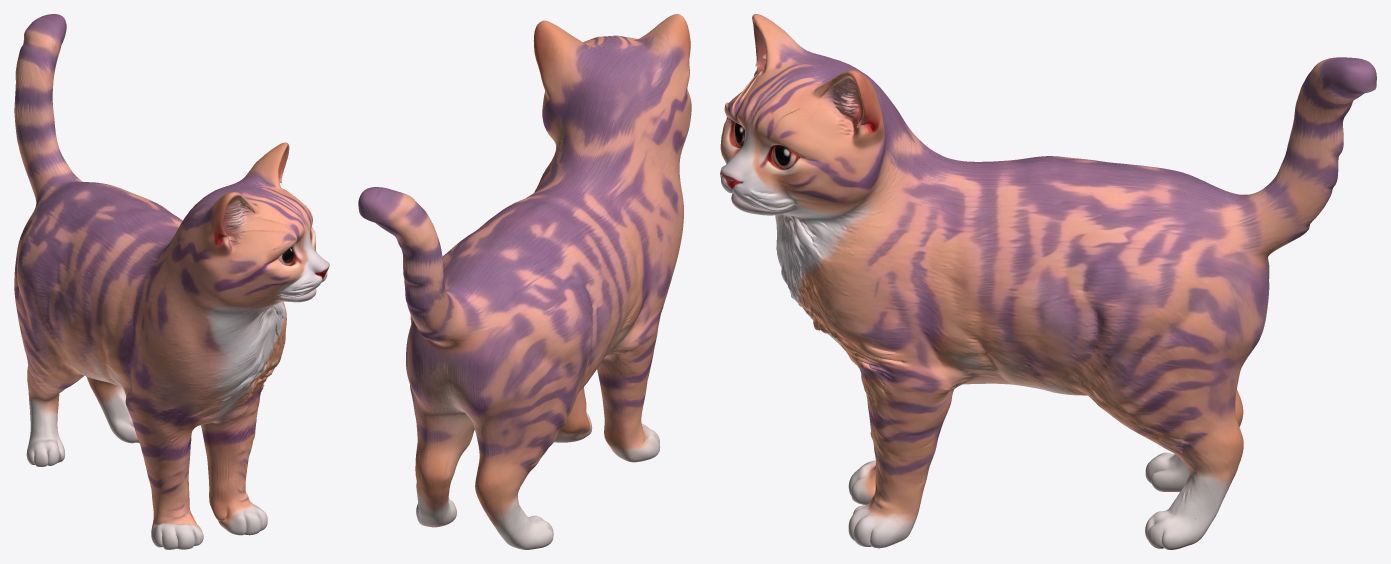
The model's file is gatito-3d.glb.
3 renders of one model, left to right at view 1: azimuth 30°, elevation 25°; view 2: azimuth 150°, elevation 25°; view 3: azimuth 270°, elevation 25°, orthographic. The views are drawn at different scales.
Visible parts, largest first — view 1: model; view 2: model; view 3: model.
Part boxes in pixels (box(x1,y1,x2,y2)): model: box(14, 14, 329, 549); model: box(358, 14, 691, 549); model: box(720, 14, 1376, 549).
Size of the model in its own units: 0.6619 by 1.55 by 1.9.
Materials: 1 (1 with a texture image).
